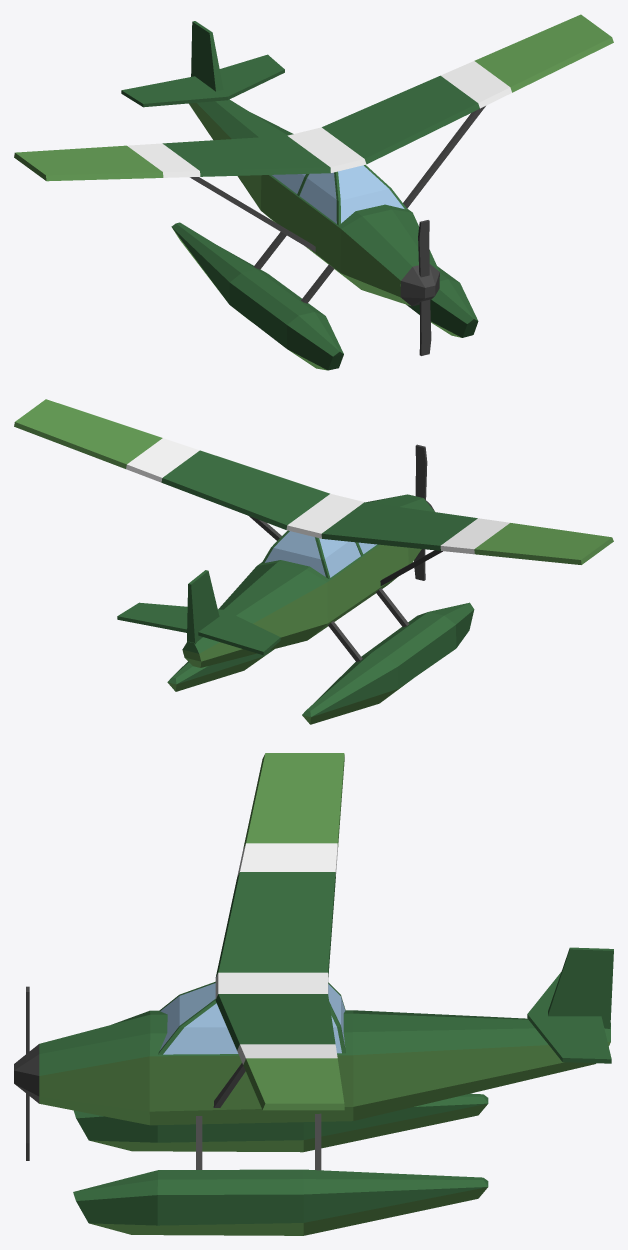
The model's file is transport_air_009.fbx.
3 views of the same model, one above another, from view 1: azimuth 30°, elevation 25°; view 2: azimuth 150°, elevation 25°; view 3: azimuth 270°, elevation 25° (orthographic). The views are drawn at different scales.
Parts seen in each view (by area): view 1: transport_air_009; view 2: transport_air_009; view 3: transport_air_009.
Boxes of the visible parts, x1=… form: transport_air_009: x1=14, y1=14, x2=613, y2=370; transport_air_009: x1=14, y1=399, x2=613, y2=724; transport_air_009: x1=14, y1=753, x2=613, y2=1235.
Size of the model in its own units: 1004 by 352 by 724.
